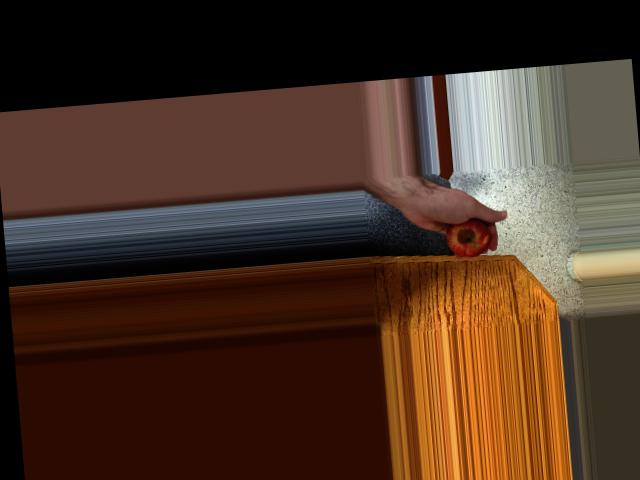apple: (440, 213, 494, 260)
